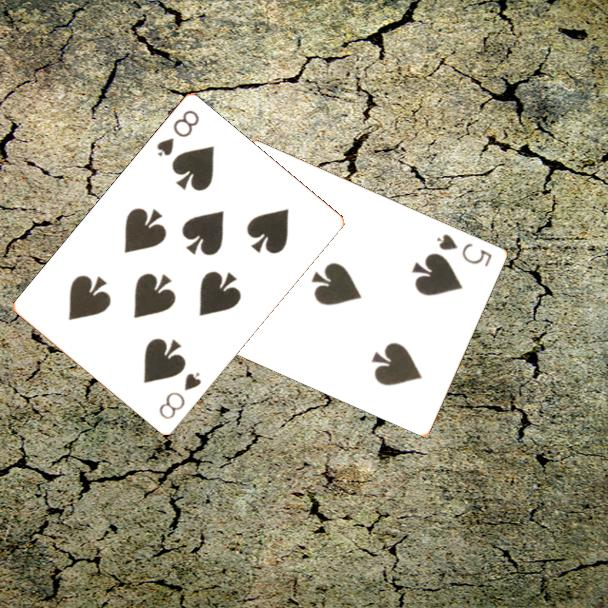s05: (433, 230, 495, 270)
s08: (155, 369, 204, 423), (153, 107, 202, 160)
